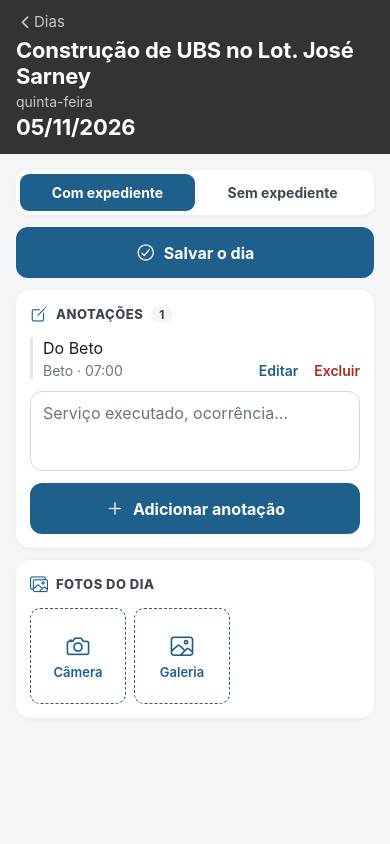
RegistroDiaTela — anotações por autor › administrador pode editar e excluir anotações de outros
The image size is (390, 844).
Click the element with test id "editar-anotacao" at (279, 370), box 259,362 -> 298,379
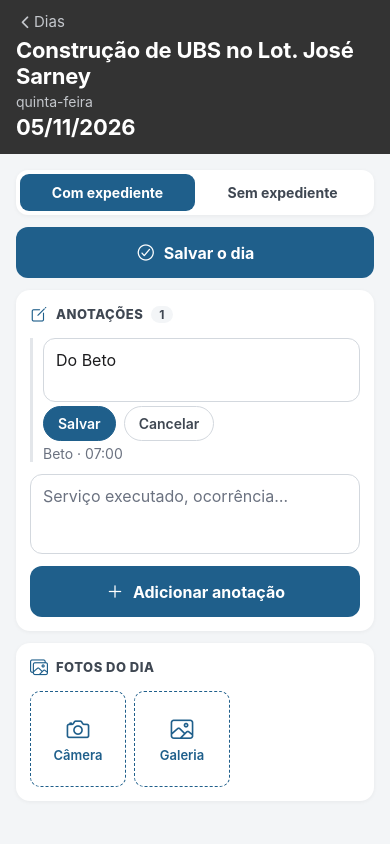
Expected: the text box with test id "editar-texto" holds "Do Beto"
Replace the text in the text box with test id "editar-texto" with "Do Beto (corrigido)" at (202, 370), box 43,338 -> 360,402
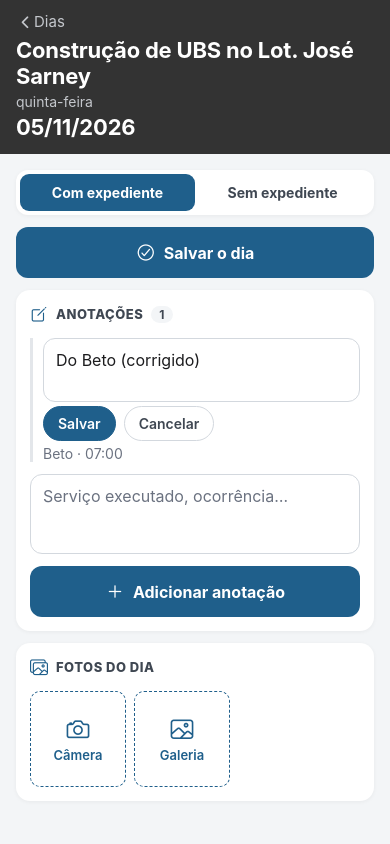
Click the element with test id "confirmar-edicao" at (79, 424), box 43,406 -> 116,441
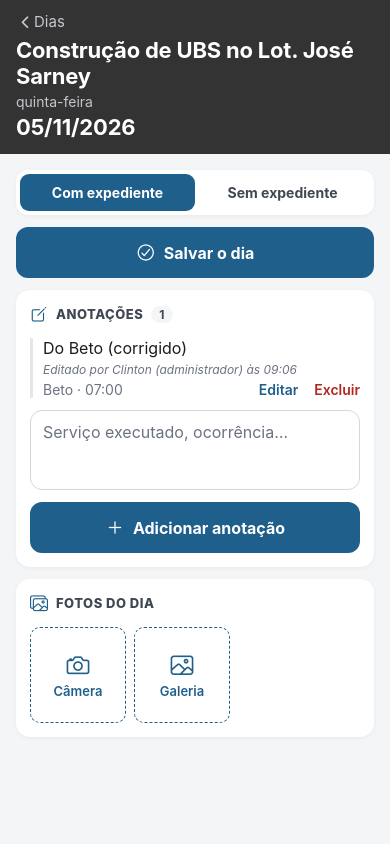
Expected: the text "Do Beto (corrigido)" is shown, 43,338 -> 187,358
Expected: the text with test id "anotacao-edicao" reads "Editado por Clinton (administrador) às 09:06", 43,362 -> 297,377
Click the element with test id "excluir-anotacao" at (337, 390), box 314,381 -> 360,398
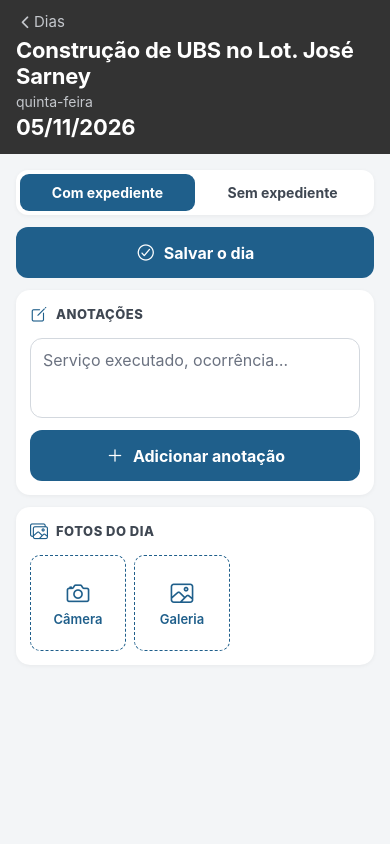
Expected: the element with test id "anotacao-item" is gone
